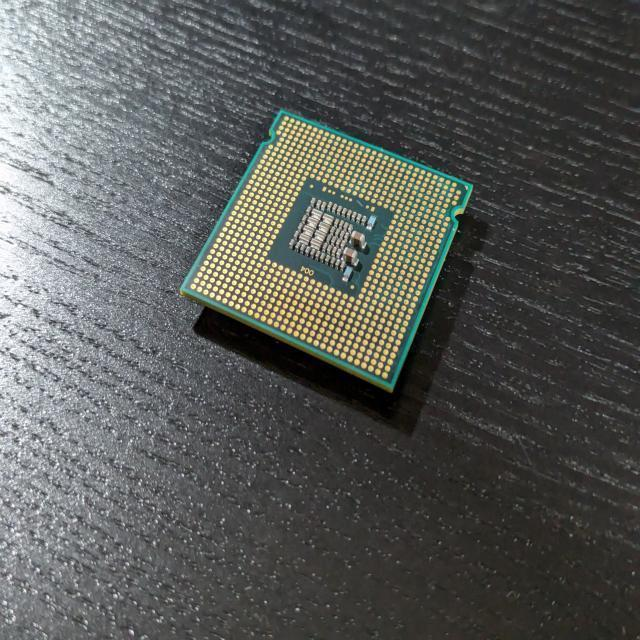CPU: (180, 111, 474, 391)
